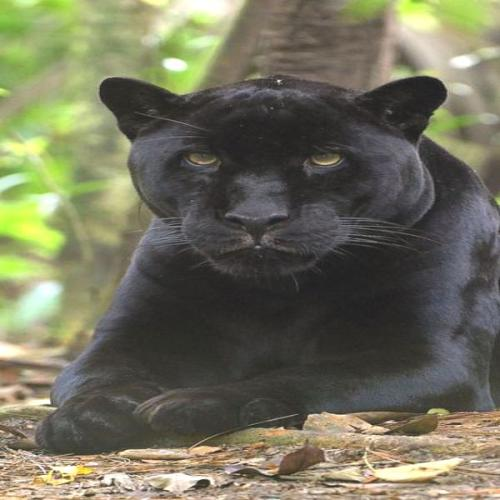panther-endangered: (65, 75, 500, 424)
